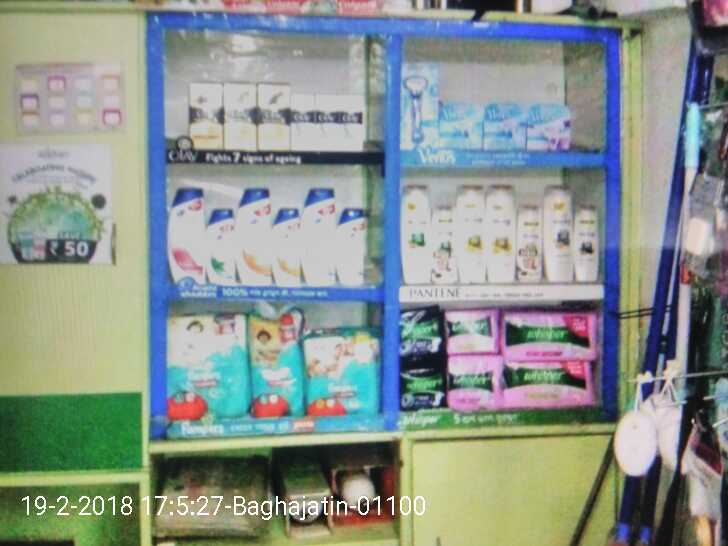venus: (401, 59, 437, 148), (440, 102, 483, 149), (527, 104, 570, 150), (487, 102, 525, 150)
